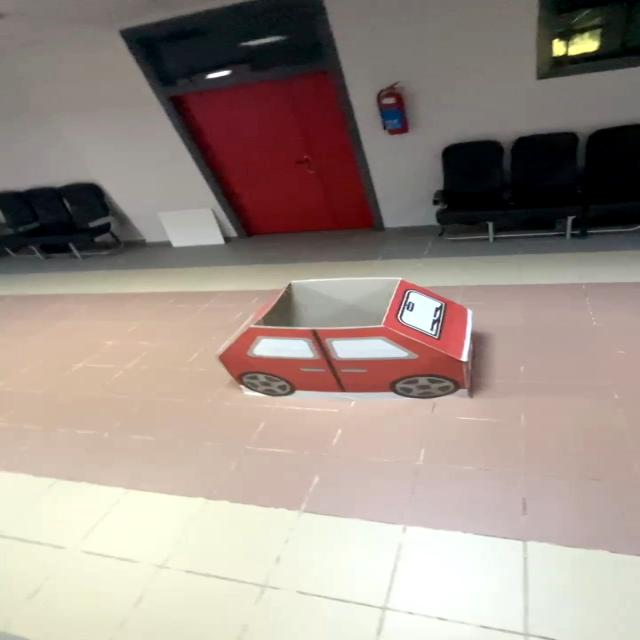red_car: (194, 269, 519, 420)
